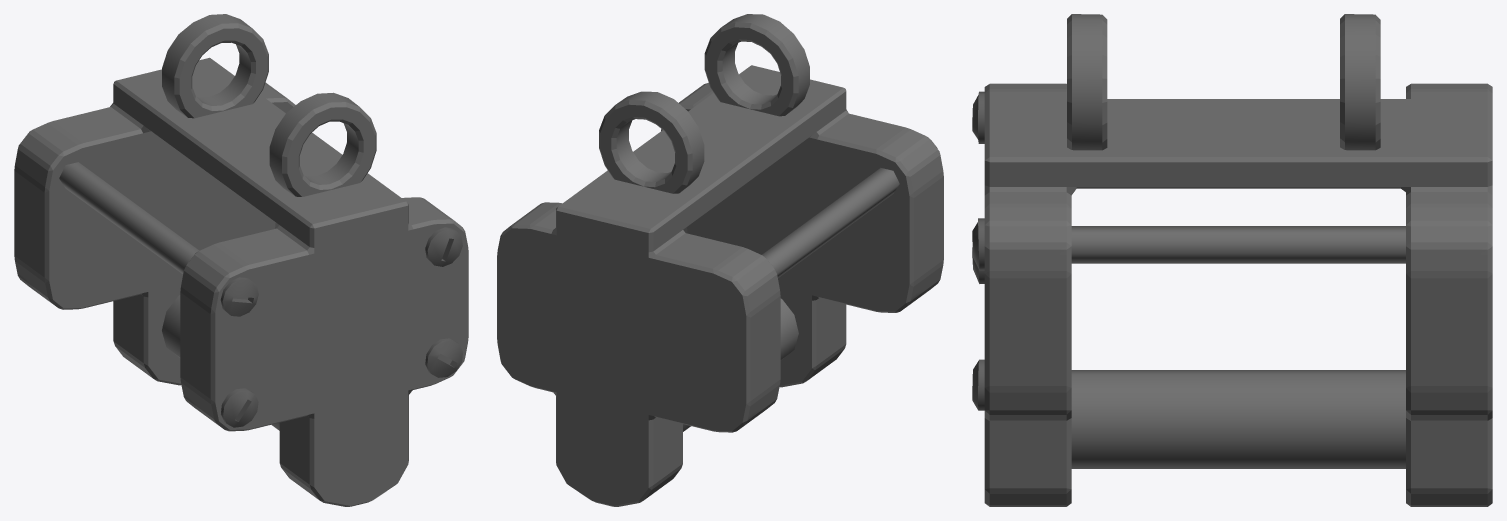
The model's file is gear_body.FBX.
The picture shows the model from 3 angles, left to right: view 1: azimuth 30°, elevation 25°; view 2: azimuth 150°, elevation 25°; view 3: azimuth 270°, elevation 25°; orthographic projection. The views are drawn at different scales.
Visible parts, largest first — view 1: Box038; view 2: Box038; view 3: Box038.
Boxes of the visible parts, bbox=[...] form: Box038: bbox=[14, 14, 468, 506]; Box038: bbox=[497, 14, 943, 506]; Box038: bbox=[972, 14, 1492, 506].
Size of the model in its own units: 22.63 by 31.68 by 31.18.
